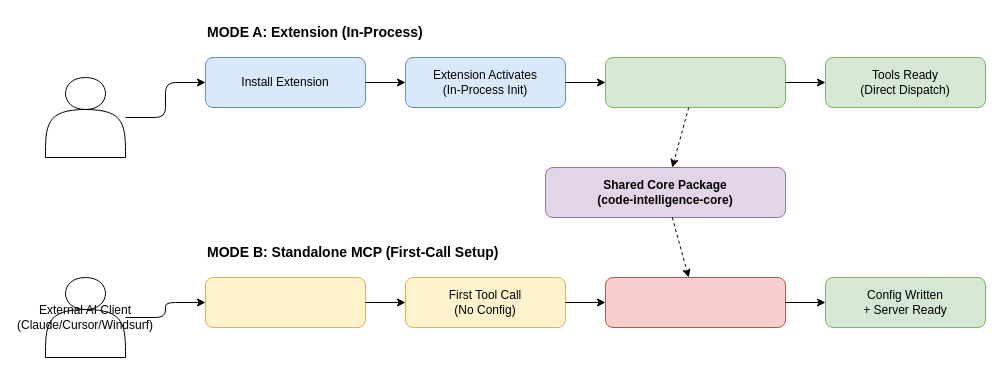
Image size: 1003x375. Some labels were removed from this diagram. Here are the shapes that lost their labels. From the top down, the centre of each, then its label:
the point at 695,82: Initialize Core (DB + Indexer + Memory)
the point at 85,117: Kiro IDE User
the point at 285,302: Configure MCP Server in Client Config
the point at 695,302: Interactive Setup via MCP Protocol
